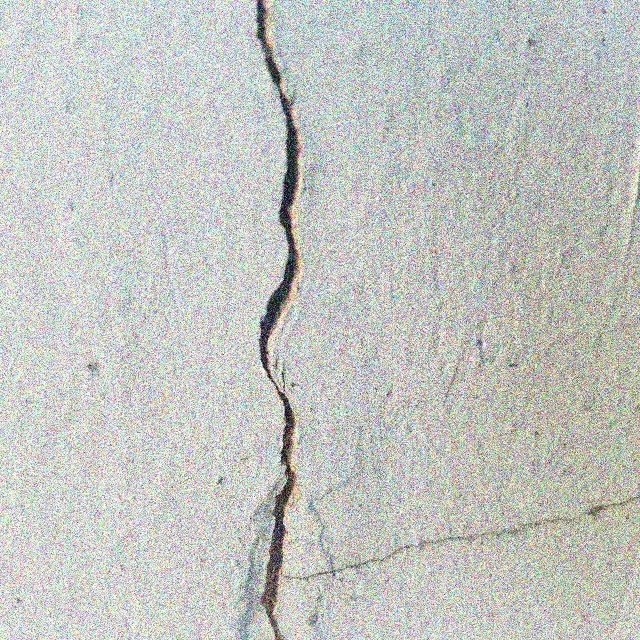SurfaceCrack: (193, 0, 346, 640), (276, 460, 640, 638)
